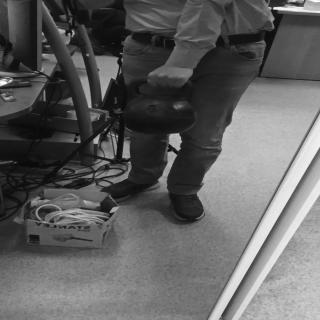girya: (123, 75, 197, 135)
